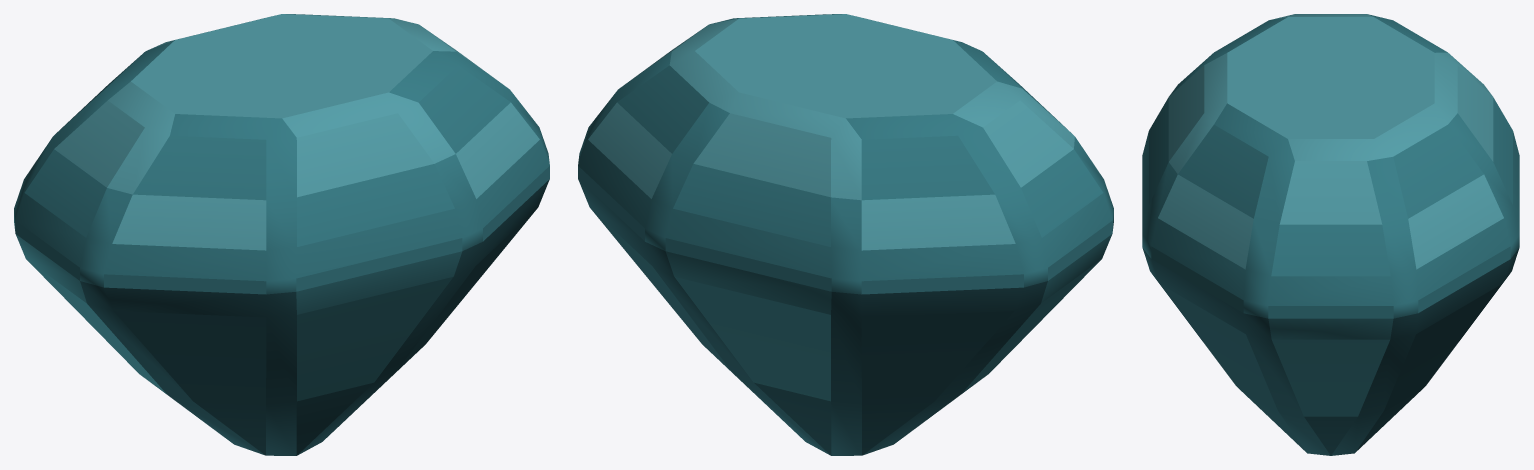
File: Gem_32.glb
The picture shows the model from 3 angles, left to right: view 1: azimuth 30°, elevation 25°; view 2: azimuth 150°, elevation 25°; view 3: azimuth 270°, elevation 25°; orthographic projection. The views are drawn at different scales.
Parts seen in each view (by area): view 1: Gem_32; view 2: Gem_32; view 3: Gem_32.
Boxes of the visible parts, bbox=[...] form: Gem_32: bbox=[14, 14, 549, 455]; Gem_32: bbox=[578, 14, 1113, 455]; Gem_32: bbox=[1142, 14, 1519, 455].
Size of the model in its own units: 1.01 by 0.7784 by 0.7251.
